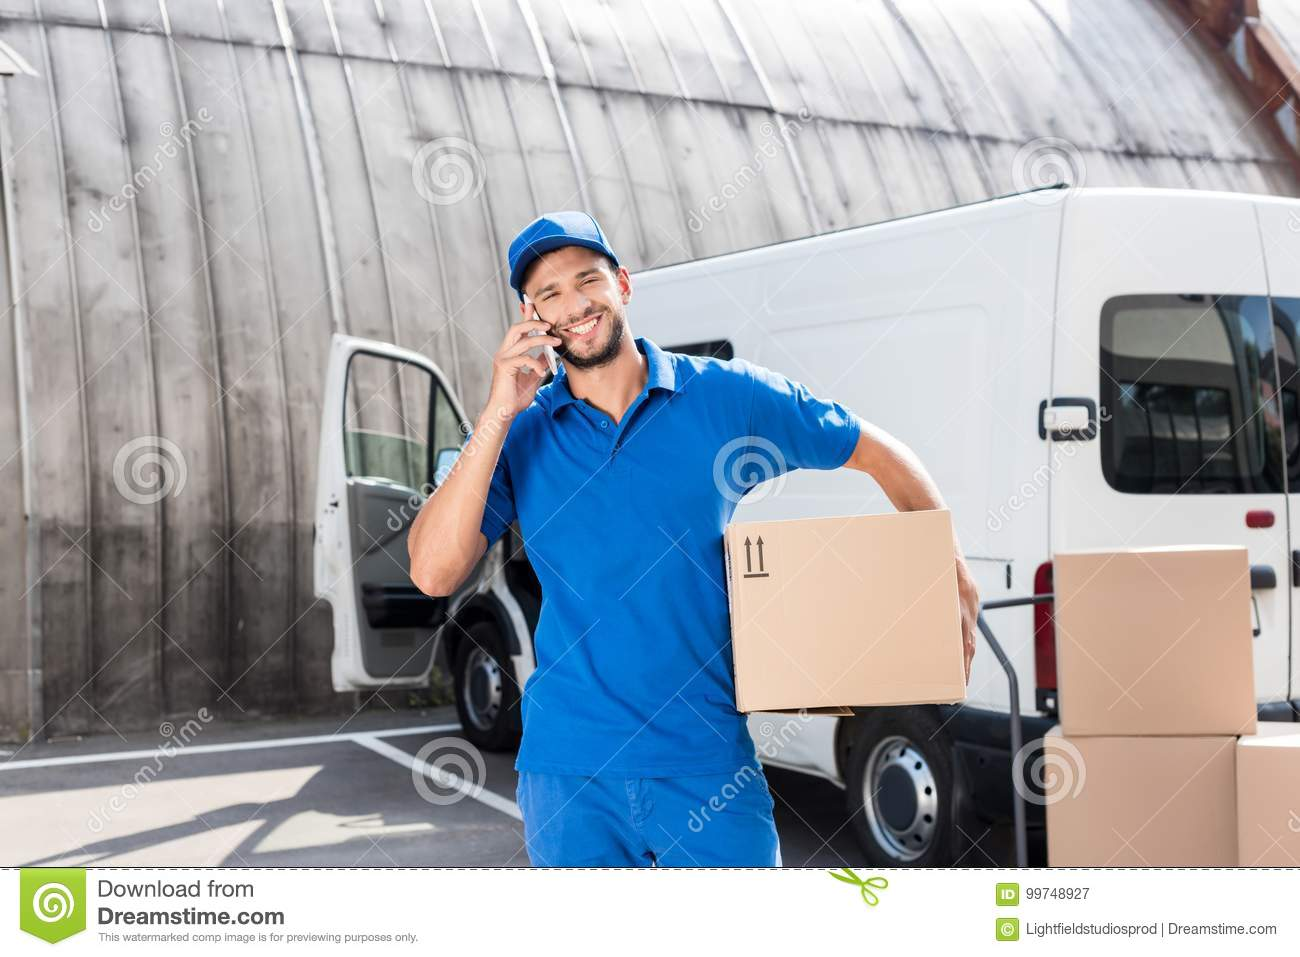phone: (521, 294, 560, 378)
talk: (490, 263, 620, 426)
